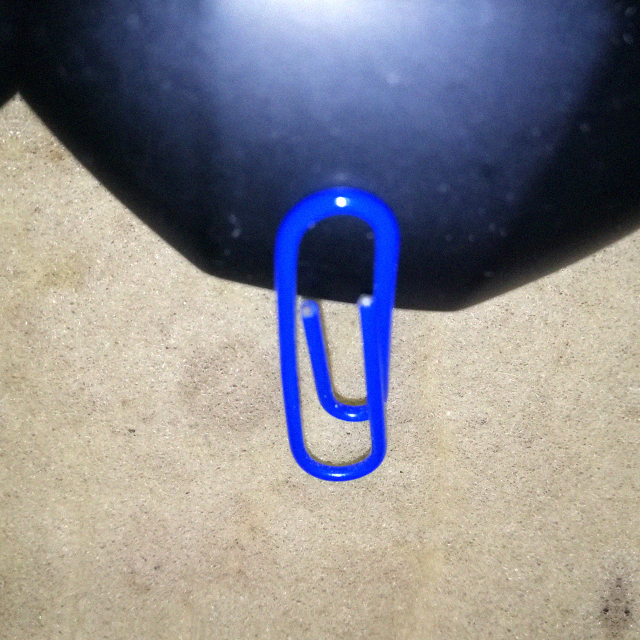pin: (259, 188, 407, 493)
